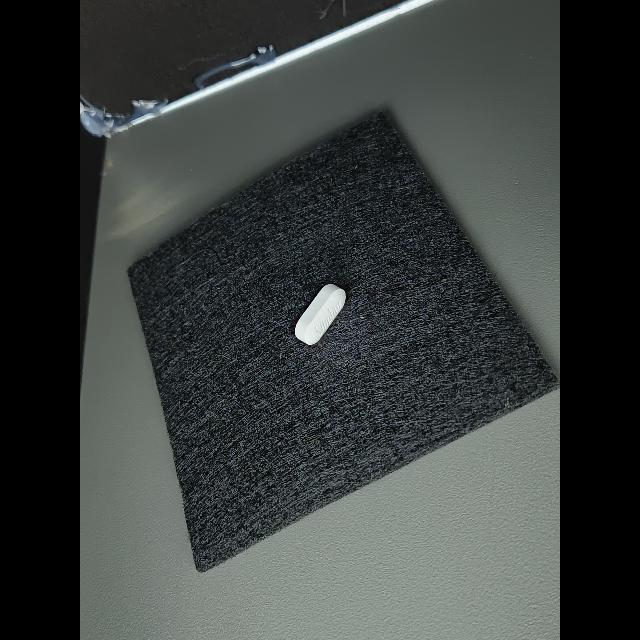Intact Pill: (295, 284, 346, 345)
